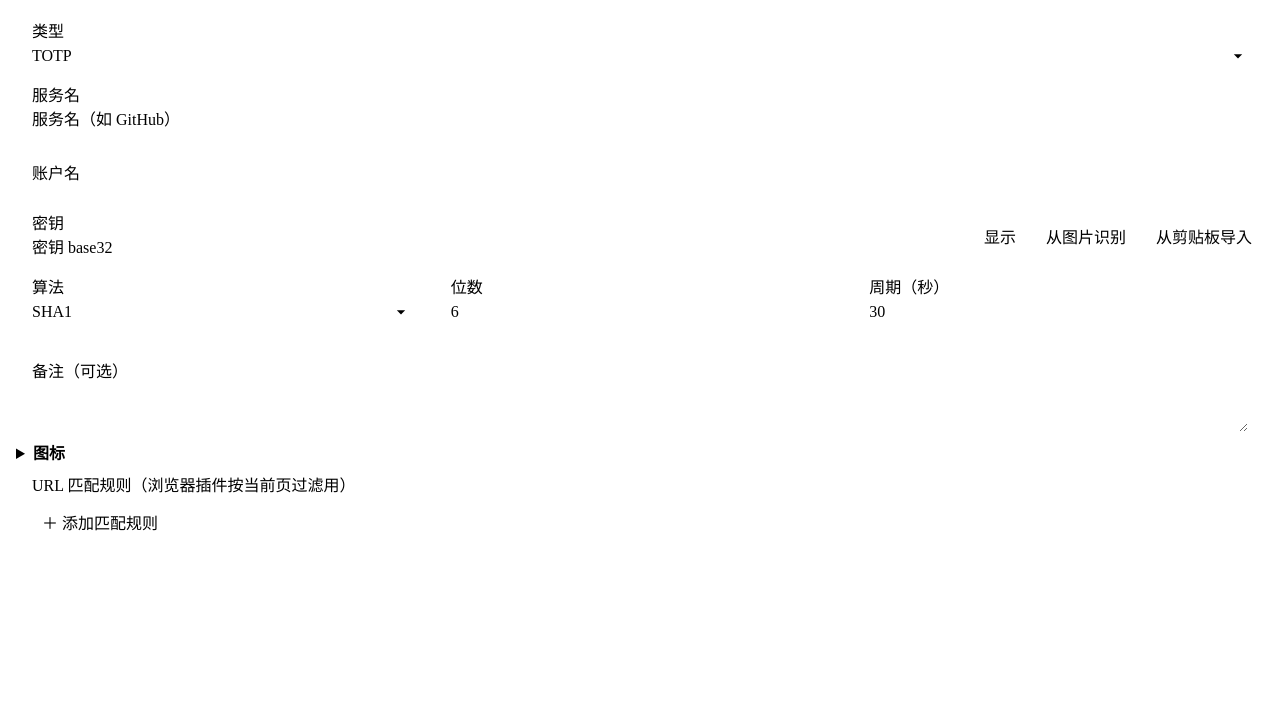
Test case: EntryForm 剪贴板三意图 › batch 无能力（宿主未提供 importBatch）→ 「无法读取剪贴板」兜底错误
Click the button with test id "clipboard-pick". click: (1204, 236)
box: left=1144, top=216, right=1264, bottom=256
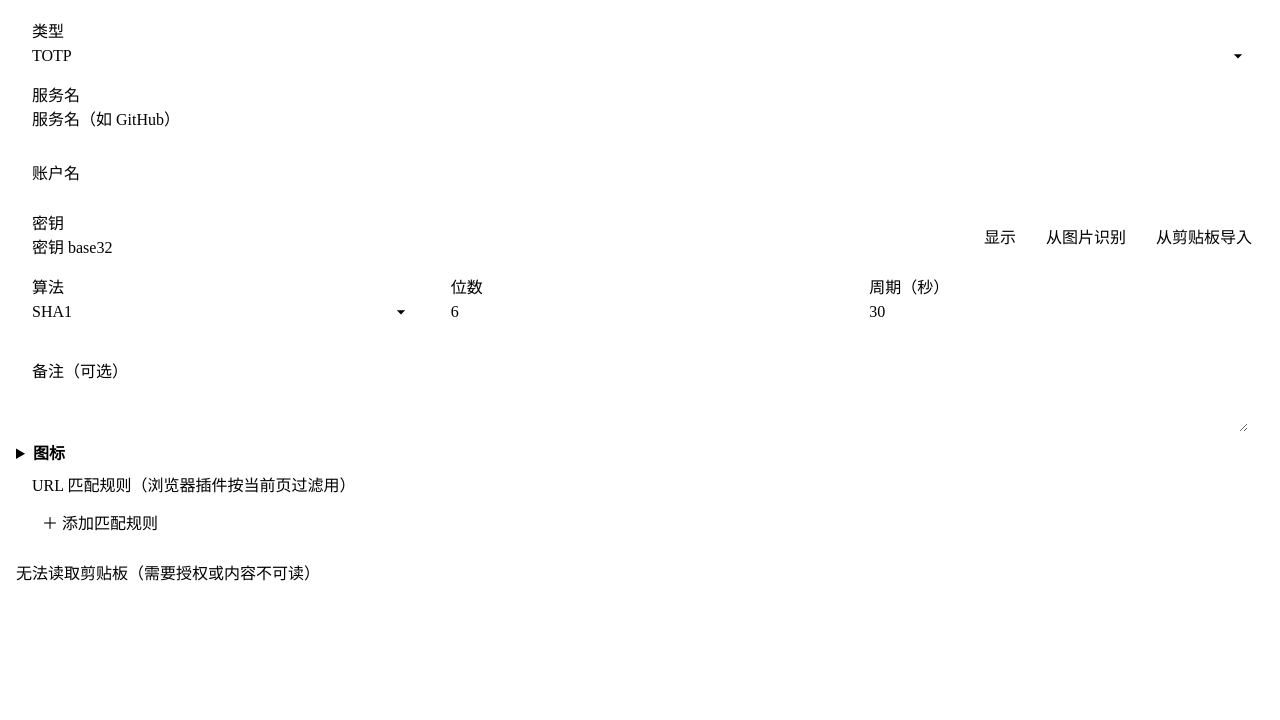
Expected: the text "无法读取剪贴板" is shown, left=16, top=565, right=320, bottom=582
